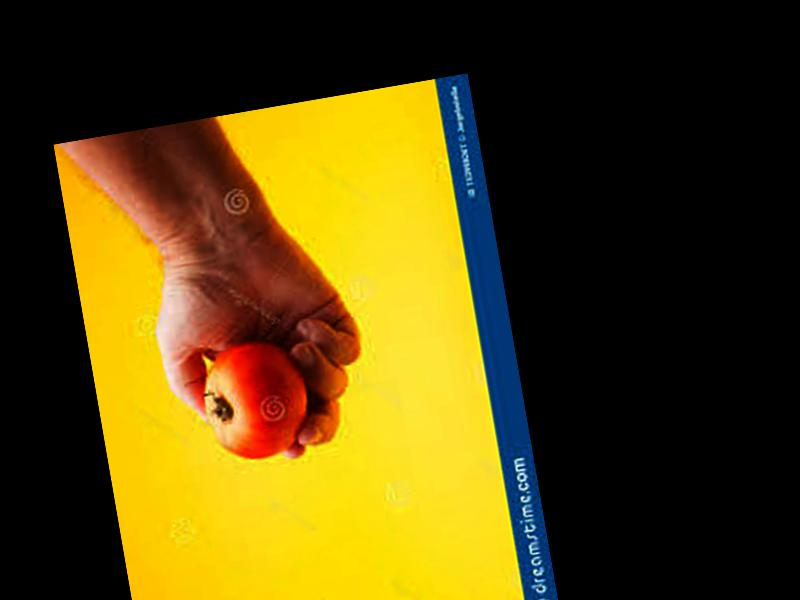Tomato: (196, 334, 315, 465)
